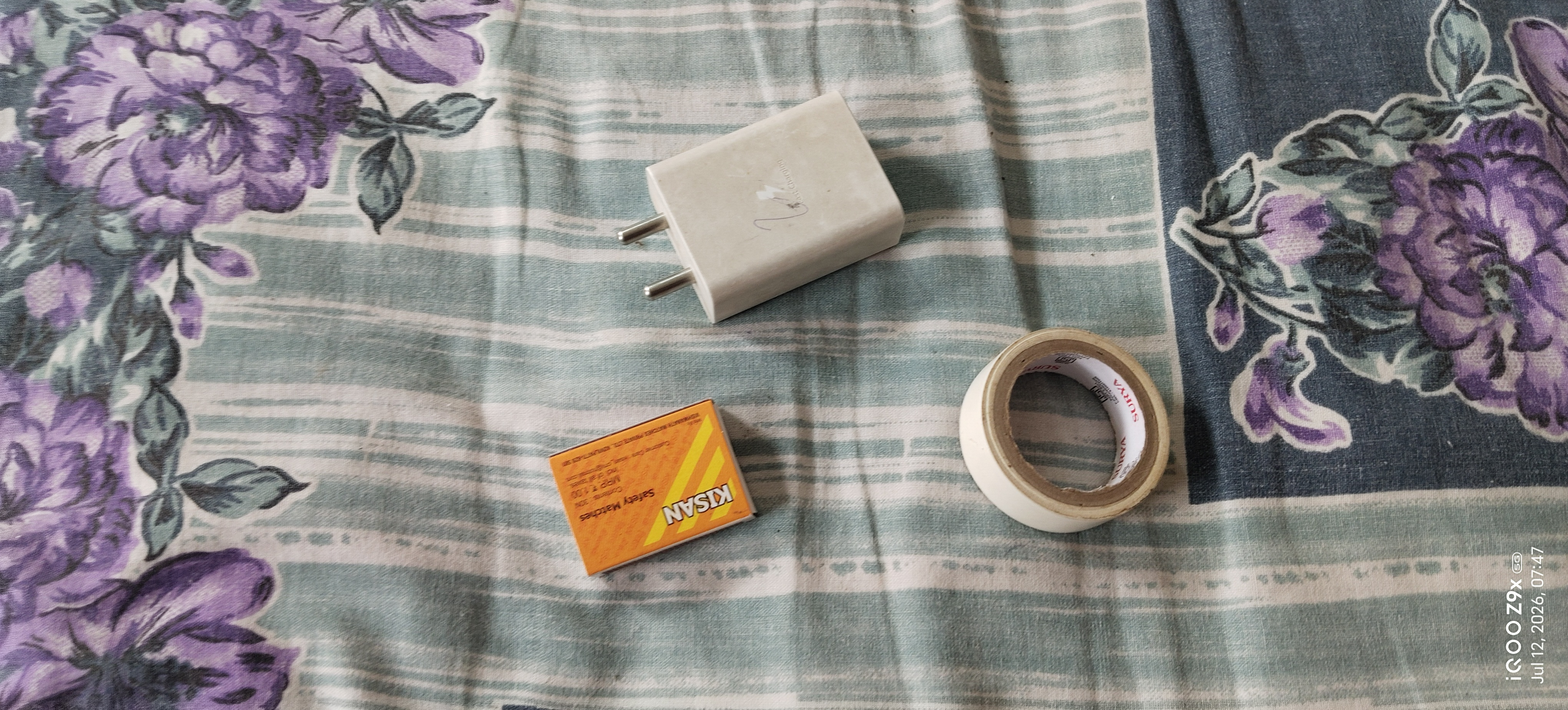charger: (576, 78, 931, 341)
matchbox: (528, 388, 772, 597)
tape_roll: (943, 322, 1201, 549)
